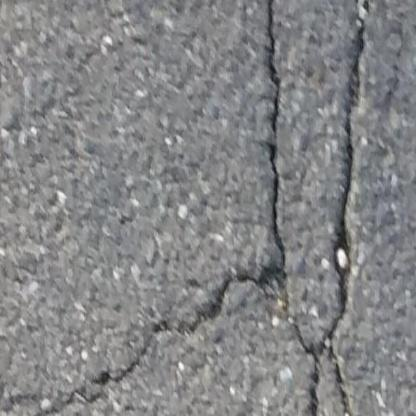Cracks: (92, 0, 372, 416)
